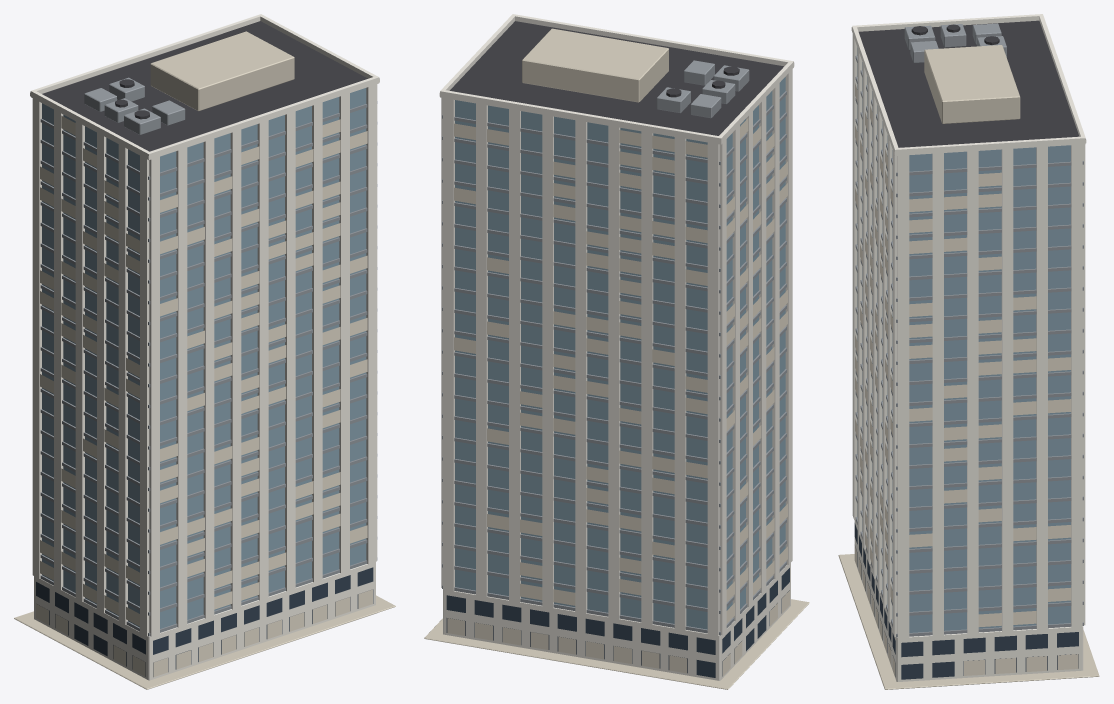
The model's file is 100-montgomery-street.glb.
3 renders of one model, left to right at view 1: azimuth 30°, elevation 25°; view 2: azimuth 150°, elevation 25°; view 3: azimuth 270°, elevation 25°, orthographic. The views are drawn at different scales.
Parts seen in each view (by area): view 1: 100-montgomery-street_body, 100-montgomery-street_night_glow; view 2: 100-montgomery-street_body, 100-montgomery-street_night_glow; view 3: 100-montgomery-street_body, 100-montgomery-street_night_glow.
Boxes of the visible parts, bbox=[...] form: 100-montgomery-street_body: bbox=[14, 14, 395, 689]; 100-montgomery-street_night_glow: bbox=[30, 78, 379, 677]; 100-montgomery-street_body: bbox=[424, 14, 809, 689]; 100-montgomery-street_night_glow: bbox=[439, 63, 794, 676]; 100-montgomery-street_body: bbox=[838, 14, 1099, 689]; 100-montgomery-street_night_glow: bbox=[851, 27, 1086, 676].
Bounding box in the file's own units: 61.72 × 108 × 46.17.
